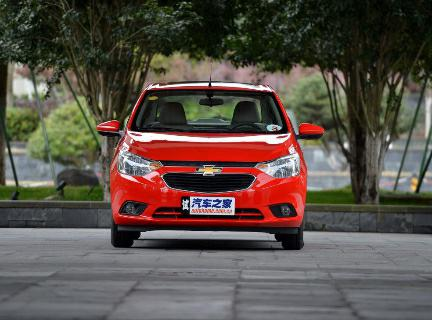雪佛兰-赛欧: (106, 78, 312, 252)
